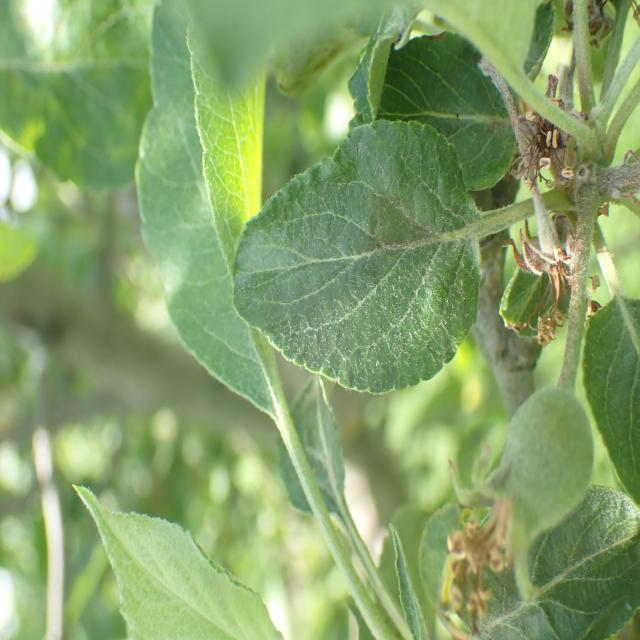scab: (264, 146, 486, 328)
